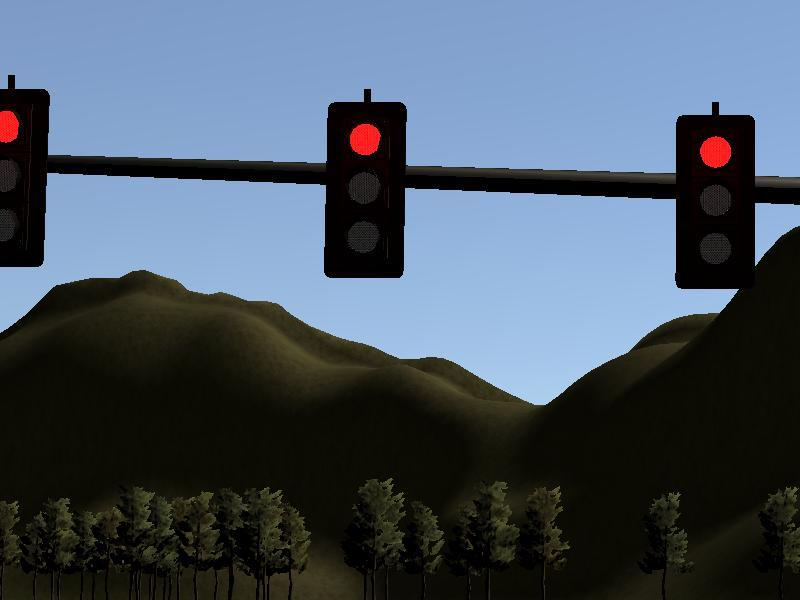Red: (326, 102, 405, 278), (675, 114, 754, 290), (1, 88, 48, 266)
